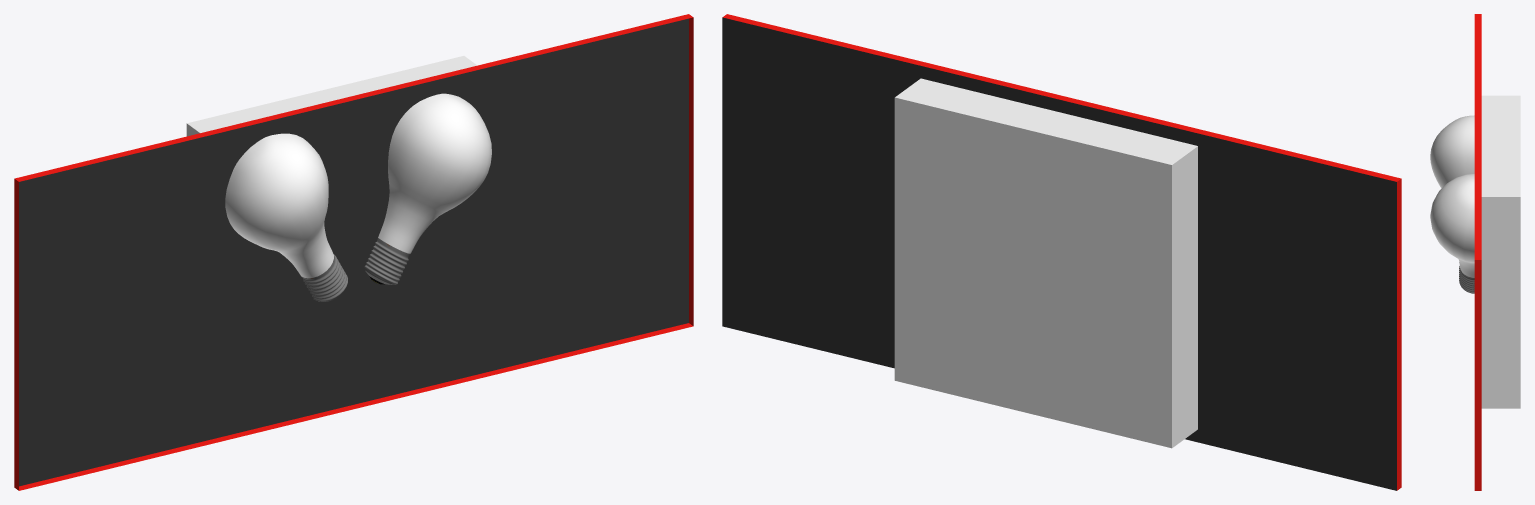
The model's file is wall_lamp_2.glb.
3 renders of one model, left to right at view 1: azimuth 30°, elevation 25°; view 2: azimuth 150°, elevation 25°; view 3: azimuth 270°, elevation 25°, orthographic. The views are drawn at different scales.
Visible parts, largest first — view 1: root; view 2: root; view 3: root.
Boxes of the visible parts, x1,y1,x2,y2 form: root: [14, 14, 693, 490]; root: [722, 14, 1401, 490]; root: [1430, 14, 1520, 490].
Size of the model in its own units: 0.45 by 0.197 by 0.07.
